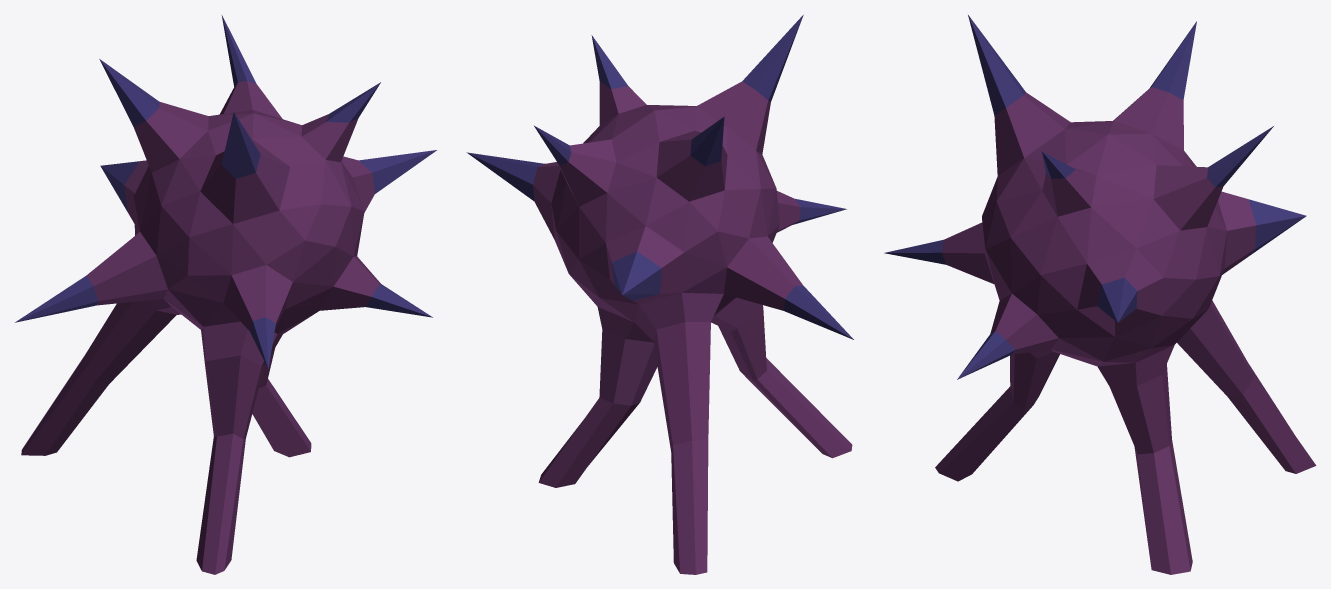
File: VL_Plant010.fbx
The picture shows the model from 3 angles, left to right: view 1: azimuth 30°, elevation 25°; view 2: azimuth 150°, elevation 25°; view 3: azimuth 270°, elevation 25°; orthographic projection. The views are drawn at different scales.
Visible parts, largest first — view 1: VL_Plant010; view 2: VL_Plant010; view 3: VL_Plant010.
Boxes of the visible parts, x1,y1,x2,y2 form: VL_Plant010: (15,15,436,574); VL_Plant010: (466,15,853,574); VL_Plant010: (884,15,1316,574).
Size of the model in its own units: 45.92 by 47.42 by 39.5.
Materials: 1 (1 with a texture image).
